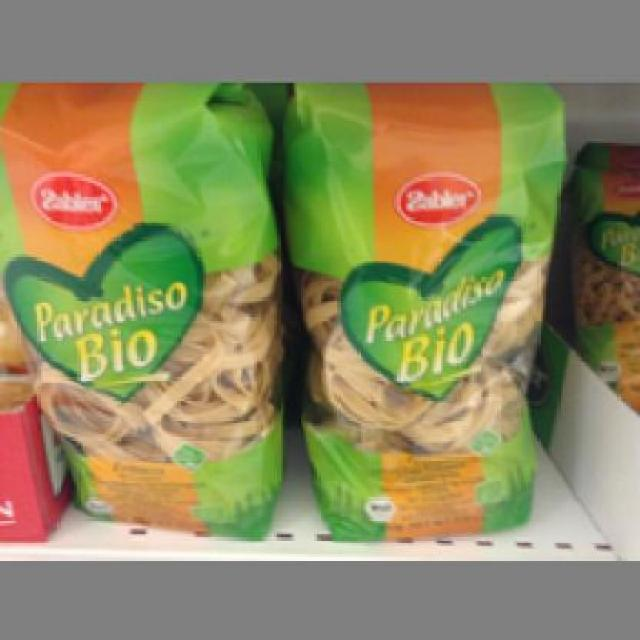Pasta: (0, 83, 283, 540), (283, 83, 563, 540)
